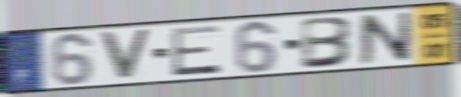6: (49, 31, 96, 88), (233, 19, 279, 76)
B: (300, 15, 357, 71)
E: (168, 23, 224, 78)
N: (357, 10, 414, 66)
V: (97, 28, 154, 82)
